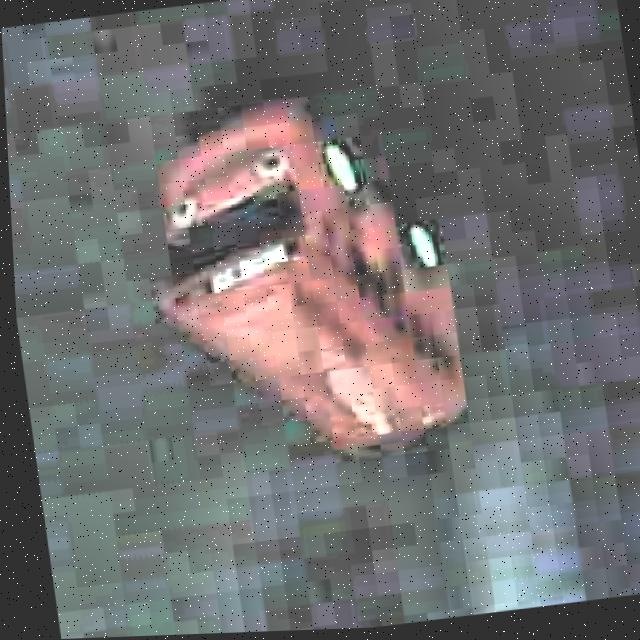bus: (122, 71, 483, 491)
